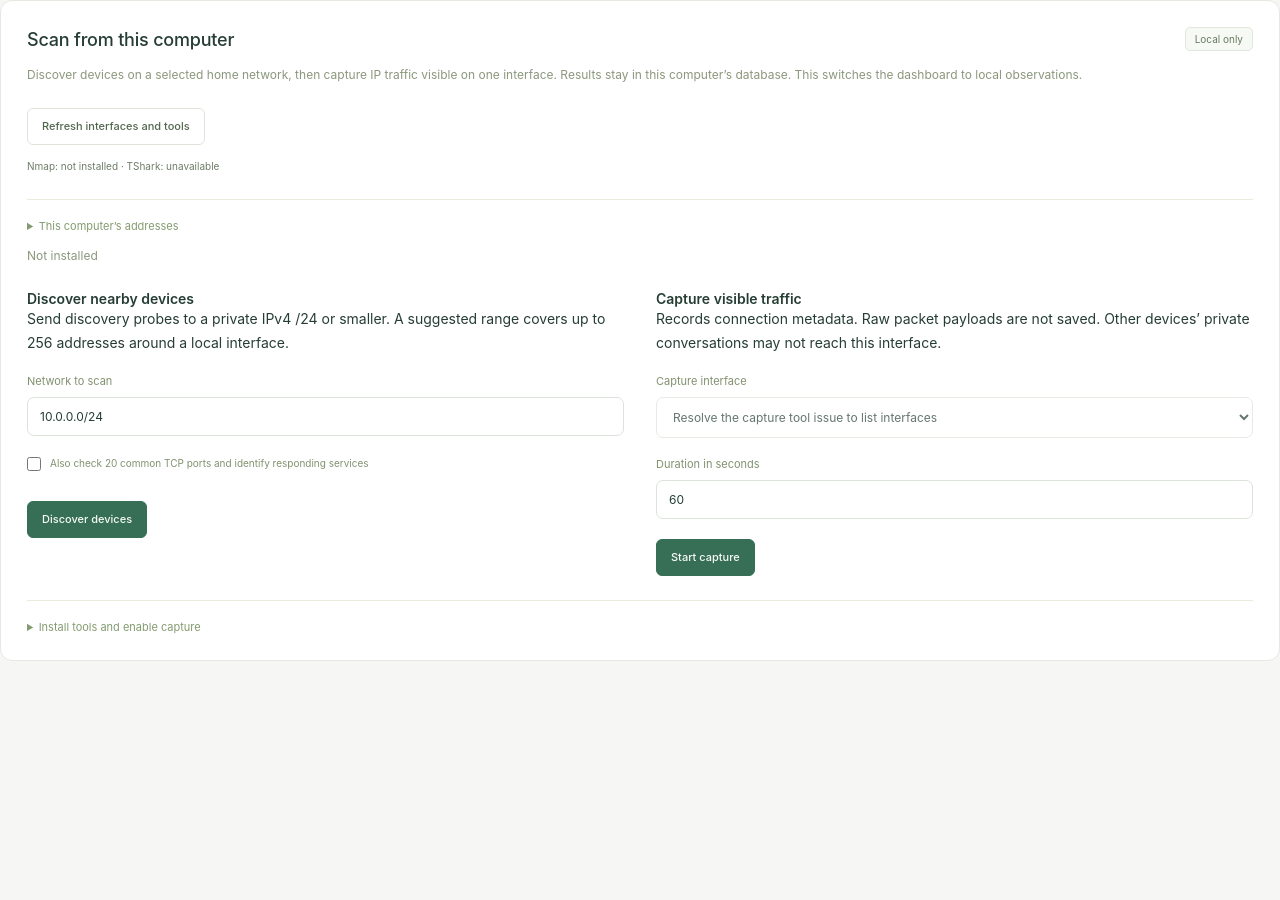
collection dependency setup › offers installation from Start capture when tools are absent
This screenshot has width=1280, height=900.
Expected: the text "Not installed" is shown, [27, 248, 98, 263]
Click the button "Start capture". click: click(705, 557)
box: [656, 539, 755, 576]
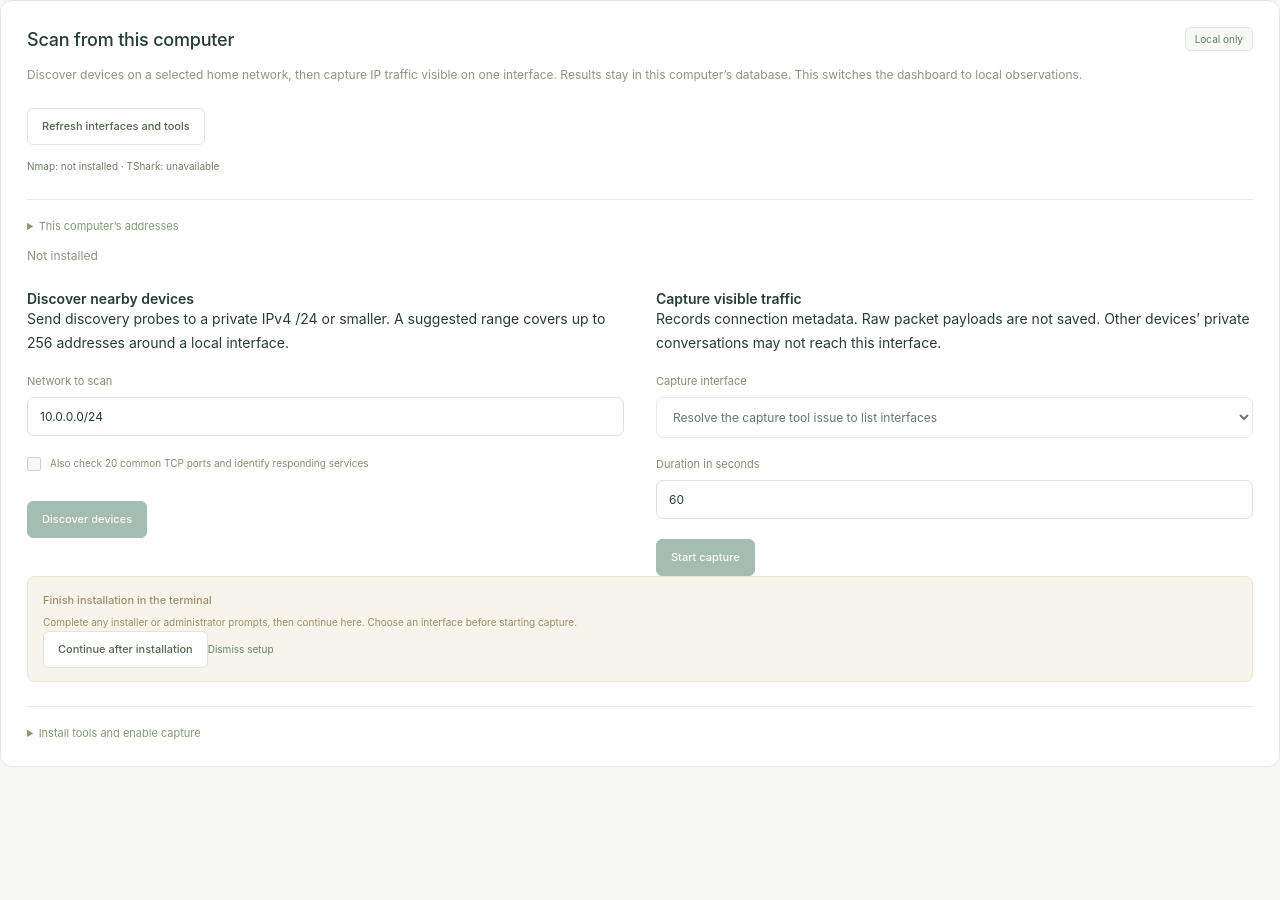
Result: the text "Finish installation in the terminal" is shown at [43, 593, 212, 607]
